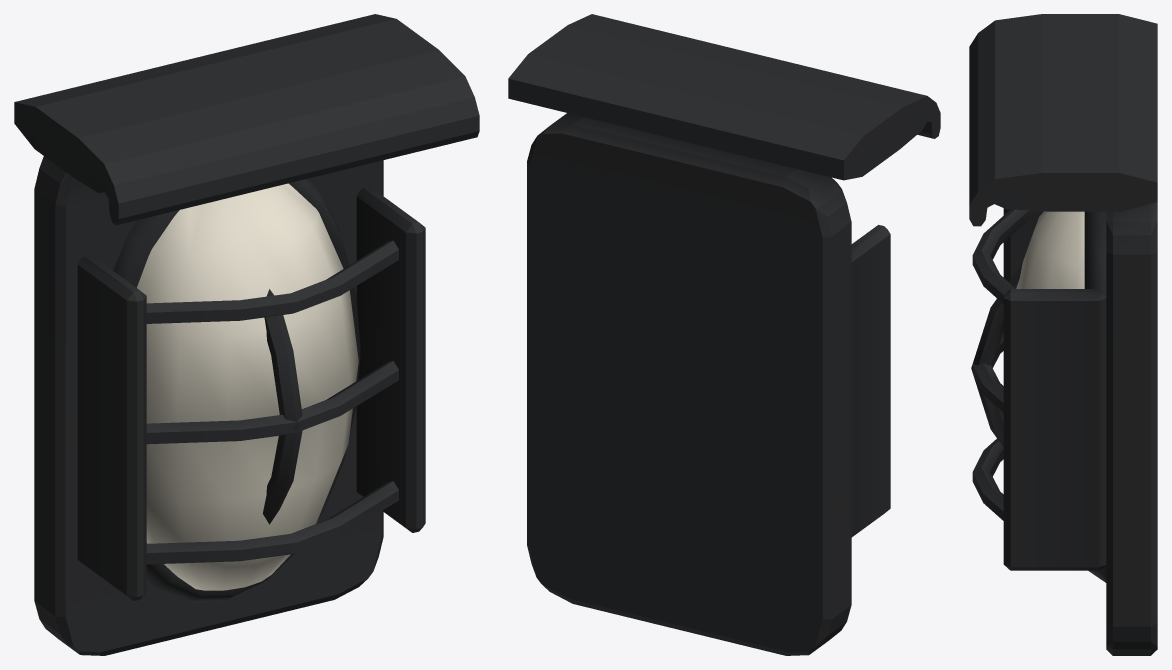
Rendered from wallLightOutdoor.glb.
The picture shows the model from 3 angles, left to right: view 1: azimuth 30°, elevation 25°; view 2: azimuth 150°, elevation 25°; view 3: azimuth 270°, elevation 25°; orthographic projection. The views are drawn at different scales.
Parts seen in each view (by area): view 1: wallLightOutdoor; view 2: wallLightOutdoor; view 3: wallLightOutdoor.
Boxes of the visible parts, box(x1,y1,x2,y2) form: wallLightOutdoor: box(14, 14, 479, 655); wallLightOutdoor: box(508, 14, 940, 655); wallLightOutdoor: box(969, 14, 1157, 655).
Size of the model in its own units: 0.22 by 0.3275 by 0.11.
